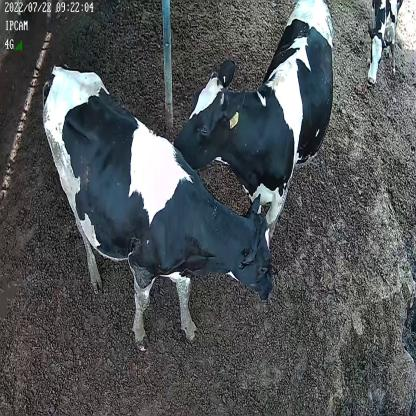cow: (40, 58, 274, 355), (172, 0, 335, 244)
